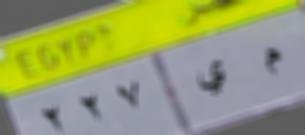2: (39, 102, 68, 135), (79, 93, 107, 125)
7: (114, 74, 142, 113)
meem: (260, 43, 285, 82)
yaa: (192, 56, 232, 100)
